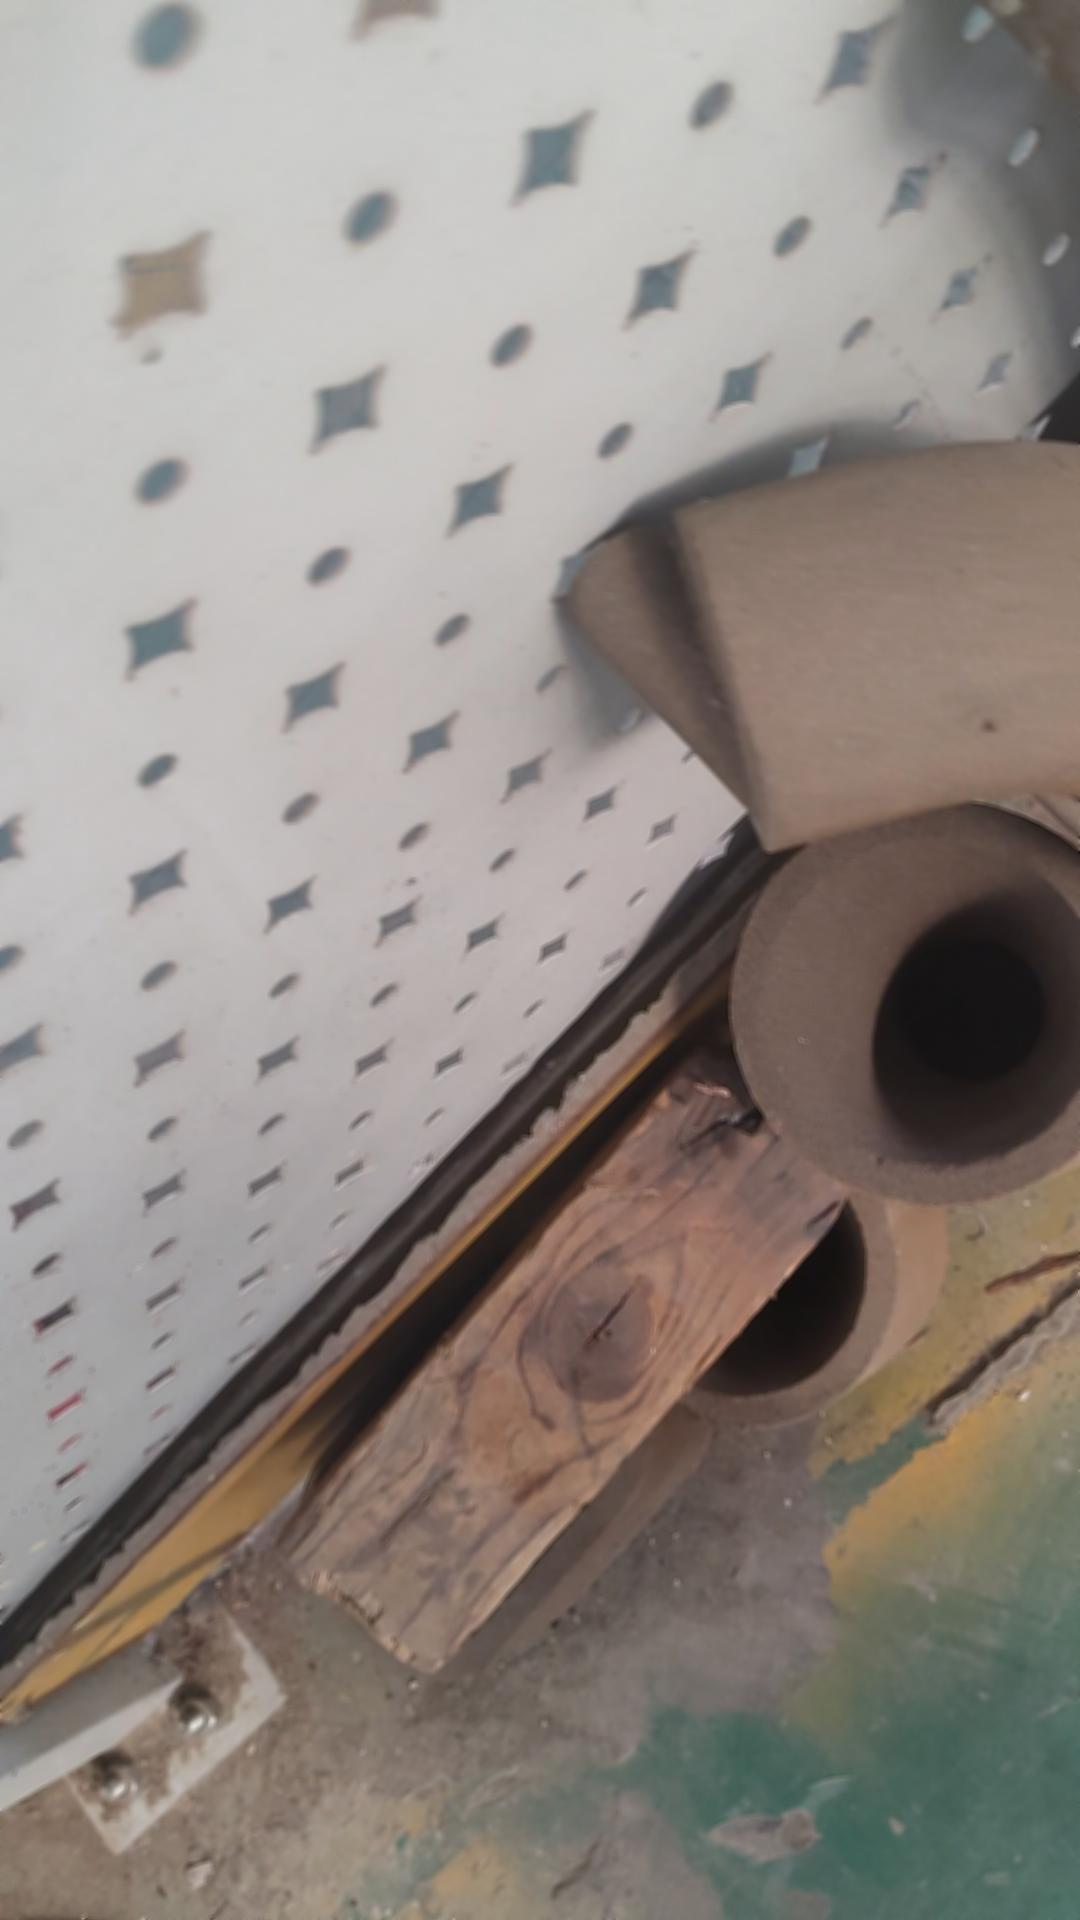pouring hole: (764, 837, 1080, 1168), (636, 1160, 866, 1403)
